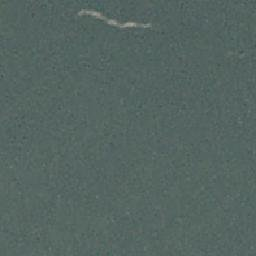debris: (78, 8, 150, 32)
